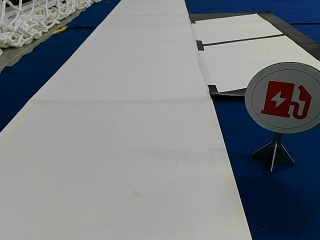battery: (244, 62, 317, 132)
